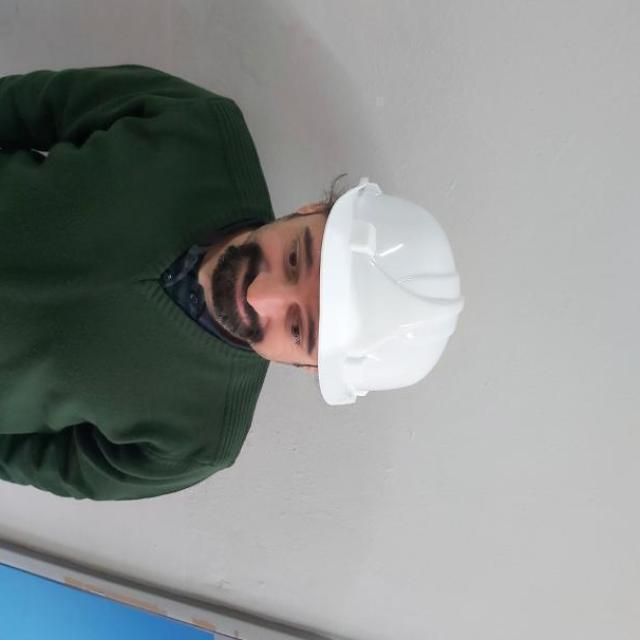helmet: (317, 175, 466, 407)
